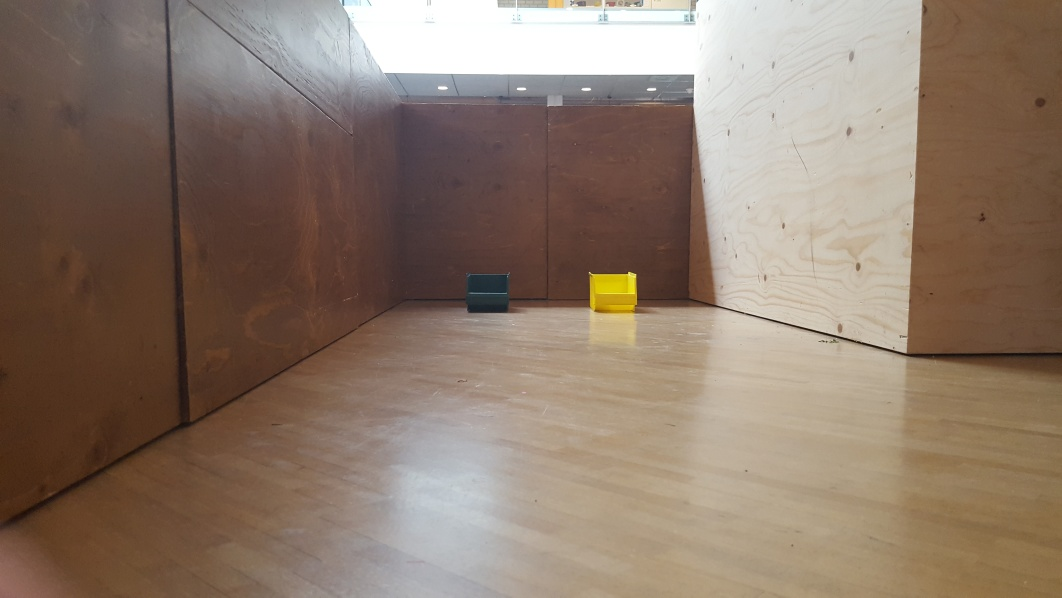tray: (584, 269, 641, 314), (465, 271, 511, 312)
